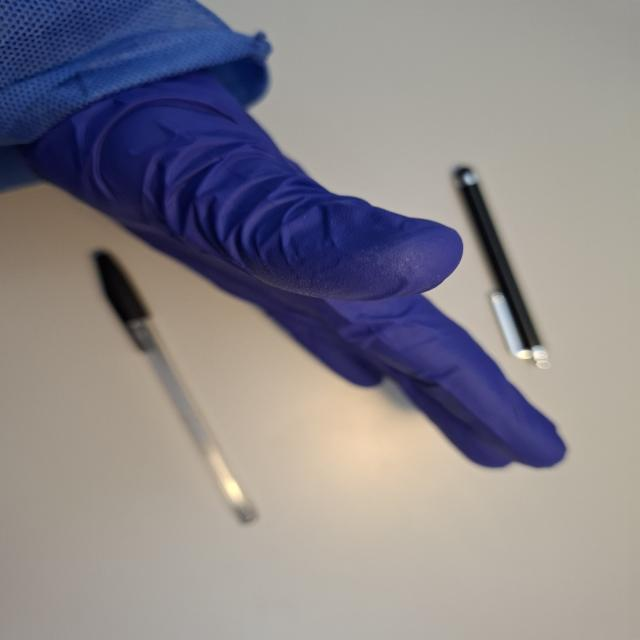glove_on: (17, 33, 570, 474)
